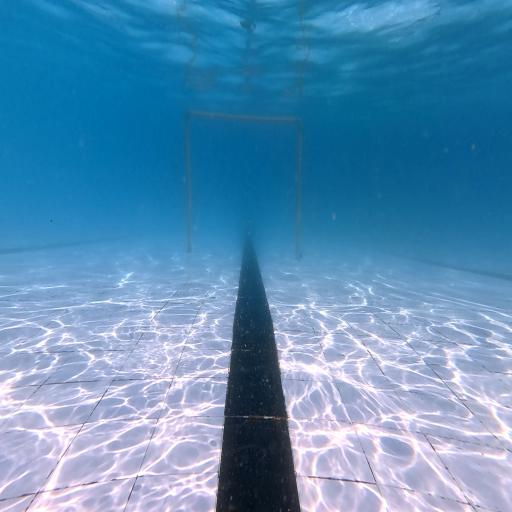gate: (185, 111, 302, 259)
